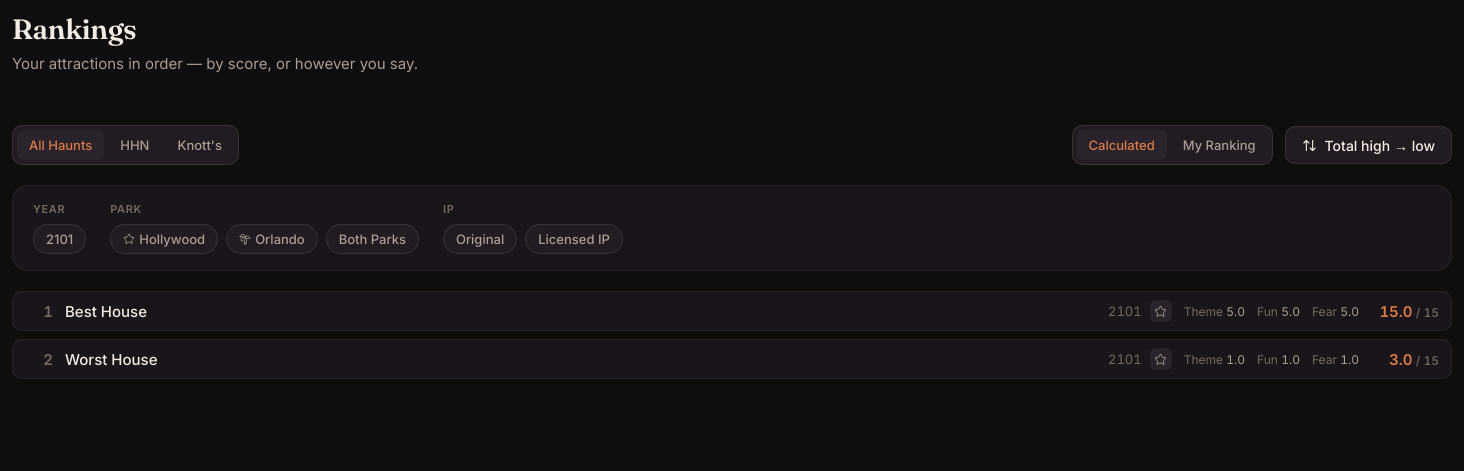
Test: Rankings › offers both ranking concepts and all four metrics in each direction
Check: the radio button labelled "Calculated" is shown, box [1076,130,1167,160]
Check: the radio button labelled "My Ranking" is shown, box [1171,130,1268,160]
Click the button "Total high → low" at (1368, 145), box [1285,126,1452,164]
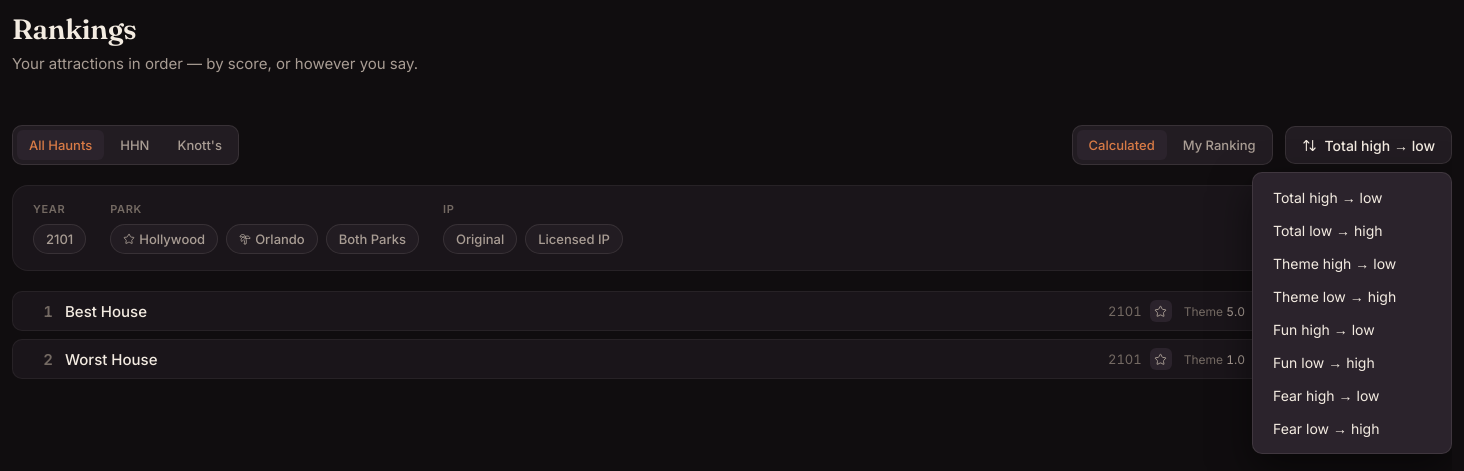
Check: the menu item "Total high → low" is shown, box [1261,181,1443,214]
Check: the menu item "Total low → high" is shown, box [1261,214,1443,247]
Check: the menu item "Theme high → low" is shown, box [1261,247,1443,280]
